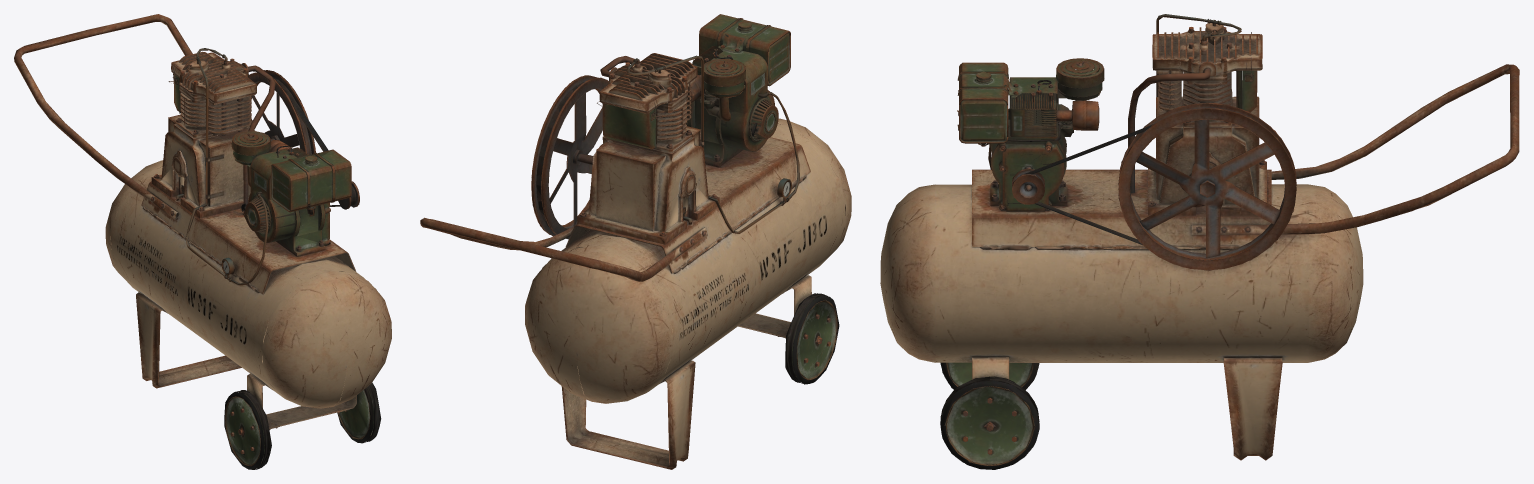
File: old_military_compressor.glb
3 renders of one model, left to right at view 1: azimuth 30°, elevation 25°; view 2: azimuth 150°, elevation 25°; view 3: azimuth 270°, elevation 25°, orthographic. The views are drawn at different scales.
Parts seen in each view (by area): view 1: old_military_compressor; view 2: old_military_compressor; view 3: old_military_compressor.
Part boxes in pixels (box(x1,y1,x2,y2)): old_military_compressor: box(14, 14, 391, 469); old_military_compressor: box(420, 14, 851, 469); old_military_compressor: box(880, 14, 1519, 469).
Bounding box in the file's own units: 0.5978 × 1.18 × 1.67.
Materials: 2 (2 with a texture image).
